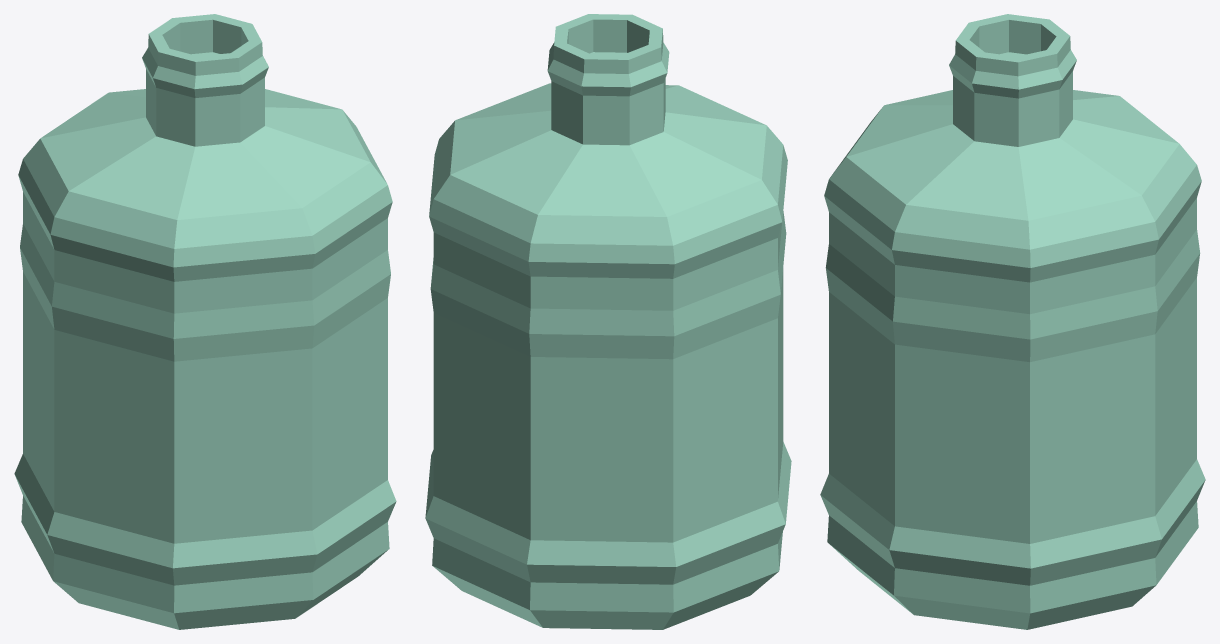
File: water_jug.glb
3 renders of one model, left to right at view 1: azimuth 30°, elevation 25°; view 2: azimuth 150°, elevation 25°; view 3: azimuth 270°, elevation 25°, orthographic.
Visible parts, largest first — view 1: Cylinder.010; view 2: Cylinder.010; view 3: Cylinder.010.
Boxes of the visible parts, left/top/right/bottom form: Cylinder.010: left=14, top=14, right=396, bottom=629; Cylinder.010: left=425, top=14, right=791, bottom=629; Cylinder.010: left=820, top=14, right=1205, bottom=629.
Size of the model in its own units: 0.5507 by 0.8408 by 0.5507.
1 material, 1 textured.
